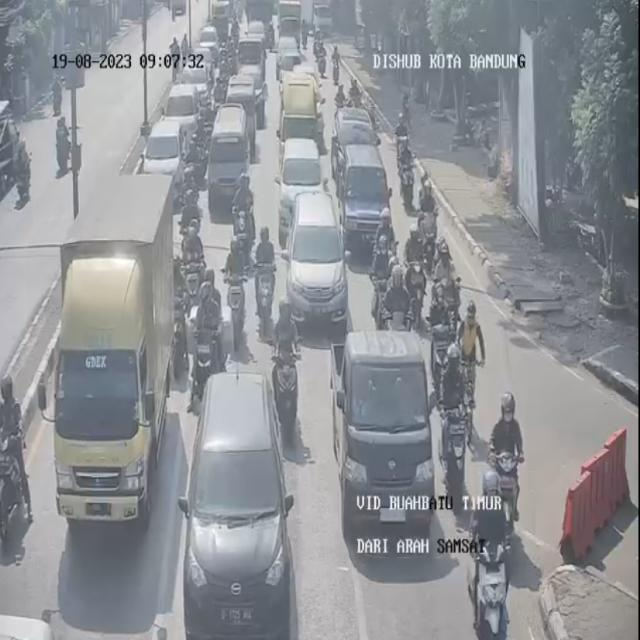cars: (189, 371, 302, 640), (334, 328, 441, 538), (288, 193, 352, 334), (338, 145, 393, 245), (279, 139, 327, 233), (211, 107, 255, 207), (280, 82, 323, 180), (146, 118, 187, 194), (334, 107, 376, 177), (164, 82, 202, 152), (225, 80, 260, 147), (237, 36, 268, 103), (182, 58, 212, 114), (275, 40, 301, 94), (202, 0, 234, 42), (198, 25, 222, 73), (276, 0, 304, 32)
motorcycle: (465, 464, 513, 640), (484, 387, 525, 523), (0, 363, 26, 545), (188, 271, 224, 398), (268, 288, 302, 421), (440, 337, 473, 468), (224, 226, 254, 332), (175, 231, 203, 344), (430, 277, 458, 381), (381, 254, 416, 333), (255, 224, 279, 330), (177, 221, 207, 301), (234, 173, 261, 251), (417, 163, 437, 263), (181, 184, 205, 262), (396, 134, 418, 208), (403, 216, 425, 282), (434, 234, 456, 299), (335, 82, 350, 124), (316, 40, 328, 77), (348, 78, 362, 107)
truck: (47, 254, 161, 517)
